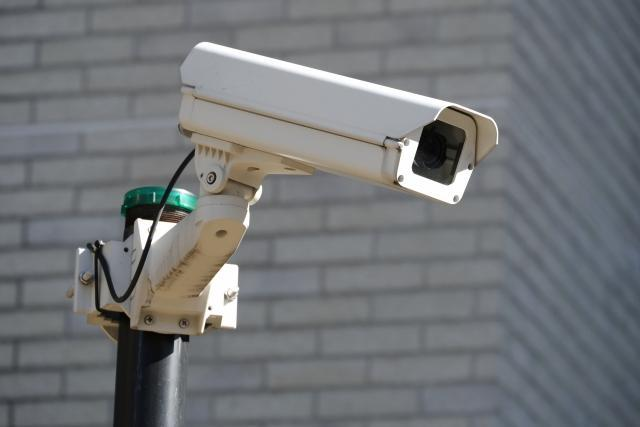tutu: (160, 32, 532, 211)
